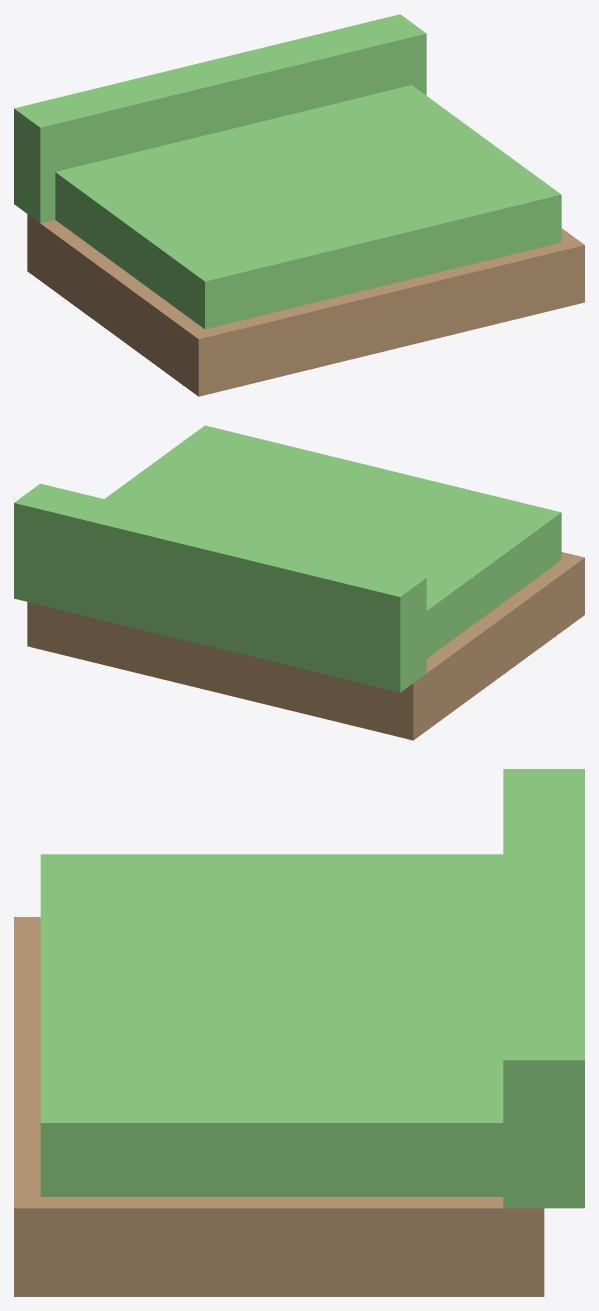
File: Prop_Pet_AMF_Bed_V20.glb
3 views of the same model, one above another, from view 1: azimuth 30°, elevation 25°; view 2: azimuth 150°, elevation 25°; view 3: azimuth 270°, elevation 25° (orthographic). The views are drawn at different scales.
Visible parts, largest first — view 1: Prop_Pet_AMF_Bed_V20; view 2: Prop_Pet_AMF_Bed_V20; view 3: Prop_Pet_AMF_Bed_V20.
Boxes of the visible parts, x1,y1,x2,y2 form: Prop_Pet_AMF_Bed_V20: (14, 14, 584, 396); Prop_Pet_AMF_Bed_V20: (14, 425, 584, 740); Prop_Pet_AMF_Bed_V20: (14, 769, 584, 1296).
Size of the model in its own units: 0.845 by 0.32 by 0.7.
